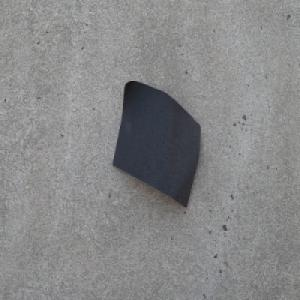PaintChip: (112, 79, 201, 209)
